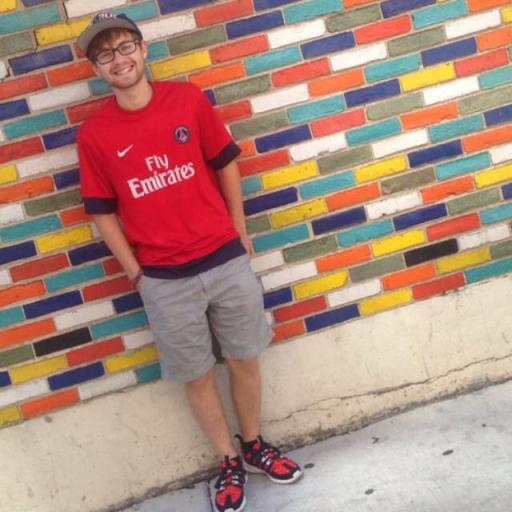Emirates: (126, 148, 197, 199)
